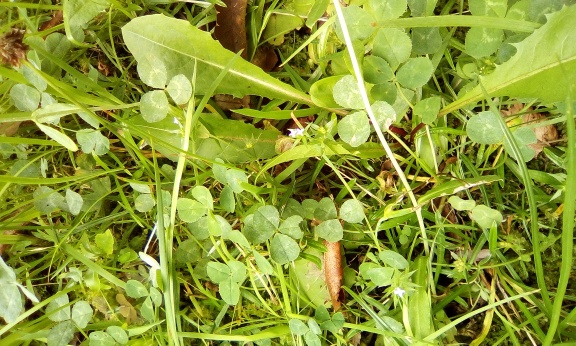4leaf: (243, 205, 305, 265)
